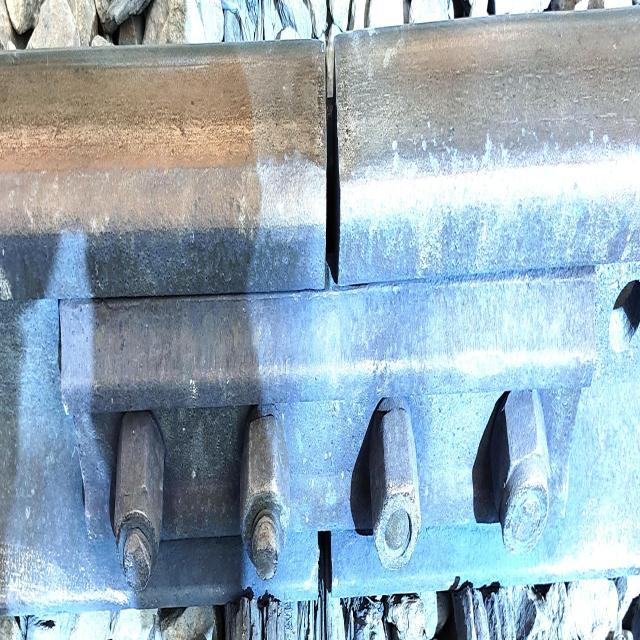Good Joint: (59, 273, 600, 584)
